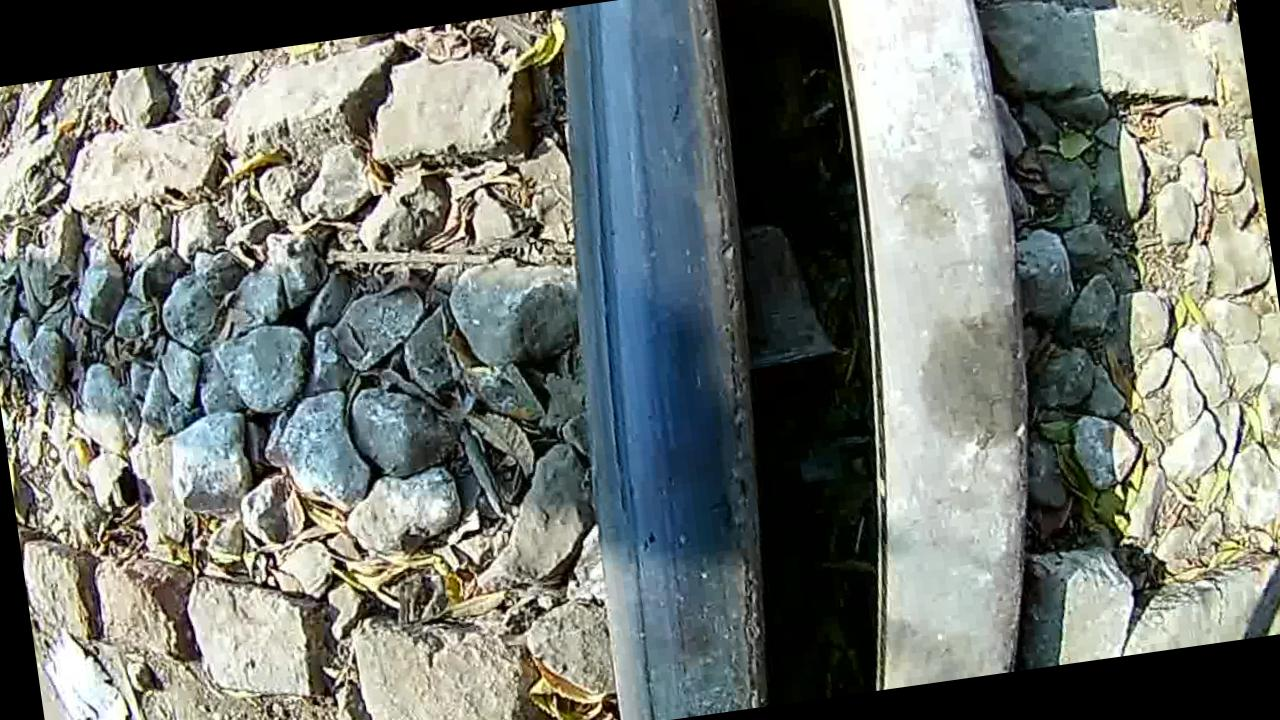clip_missing: (518, 0, 823, 720)
